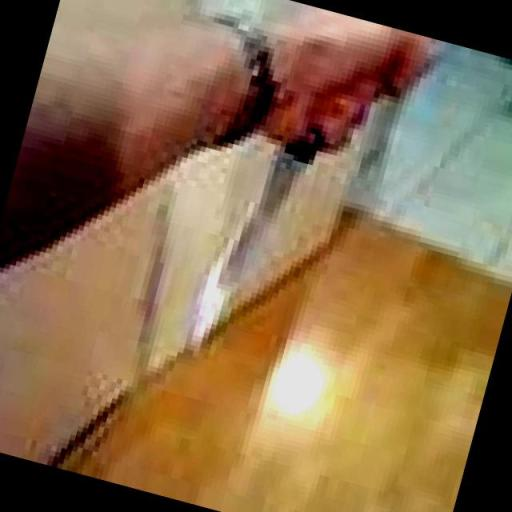knife: (172, 43, 337, 382)
